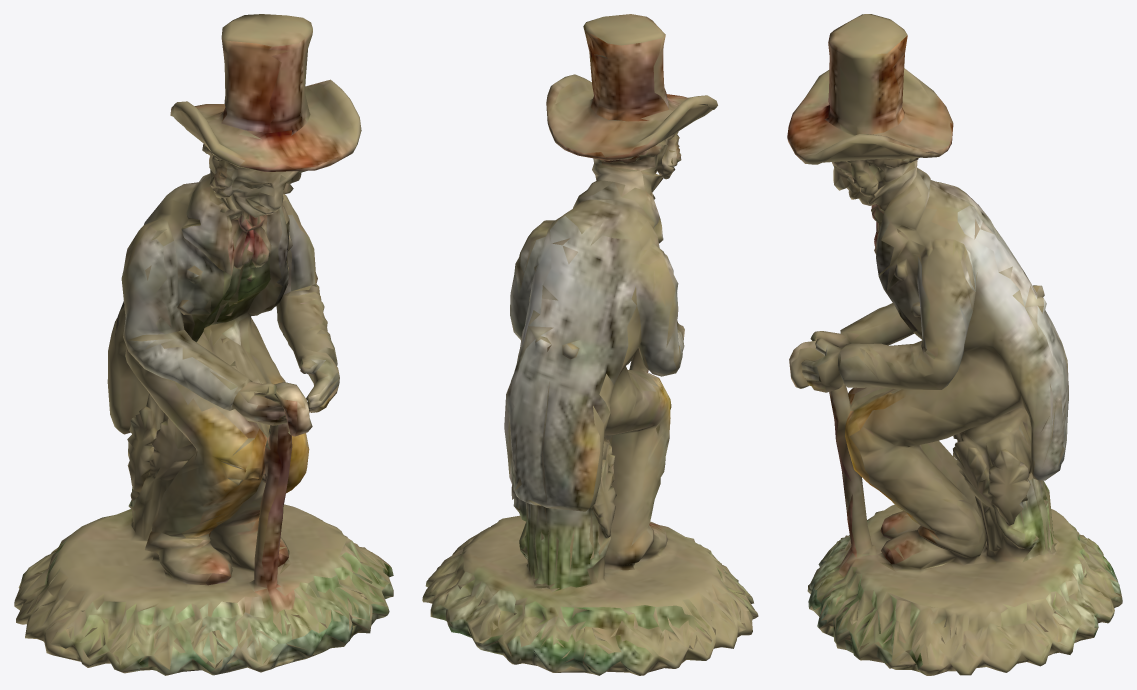
File: candlestick-20177428-2.glb
3 renders of one model, left to right at view 1: azimuth 30°, elevation 25°; view 2: azimuth 150°, elevation 25°; view 3: azimuth 270°, elevation 25°, orthographic. The views are drawn at different scales.
Parts seen in each view (by area): view 1: Mesh; view 2: Mesh; view 3: Mesh.
Boxes of the visible parts, box(x1,y1,x2,y2) form: Mesh: box(14, 14, 393, 675); Mesh: box(422, 14, 758, 675); Mesh: box(787, 14, 1122, 675).
Size of the model in its own units: 0.12 by 0.2101 by 0.11.
Materials: 1 (1 with a texture image).
